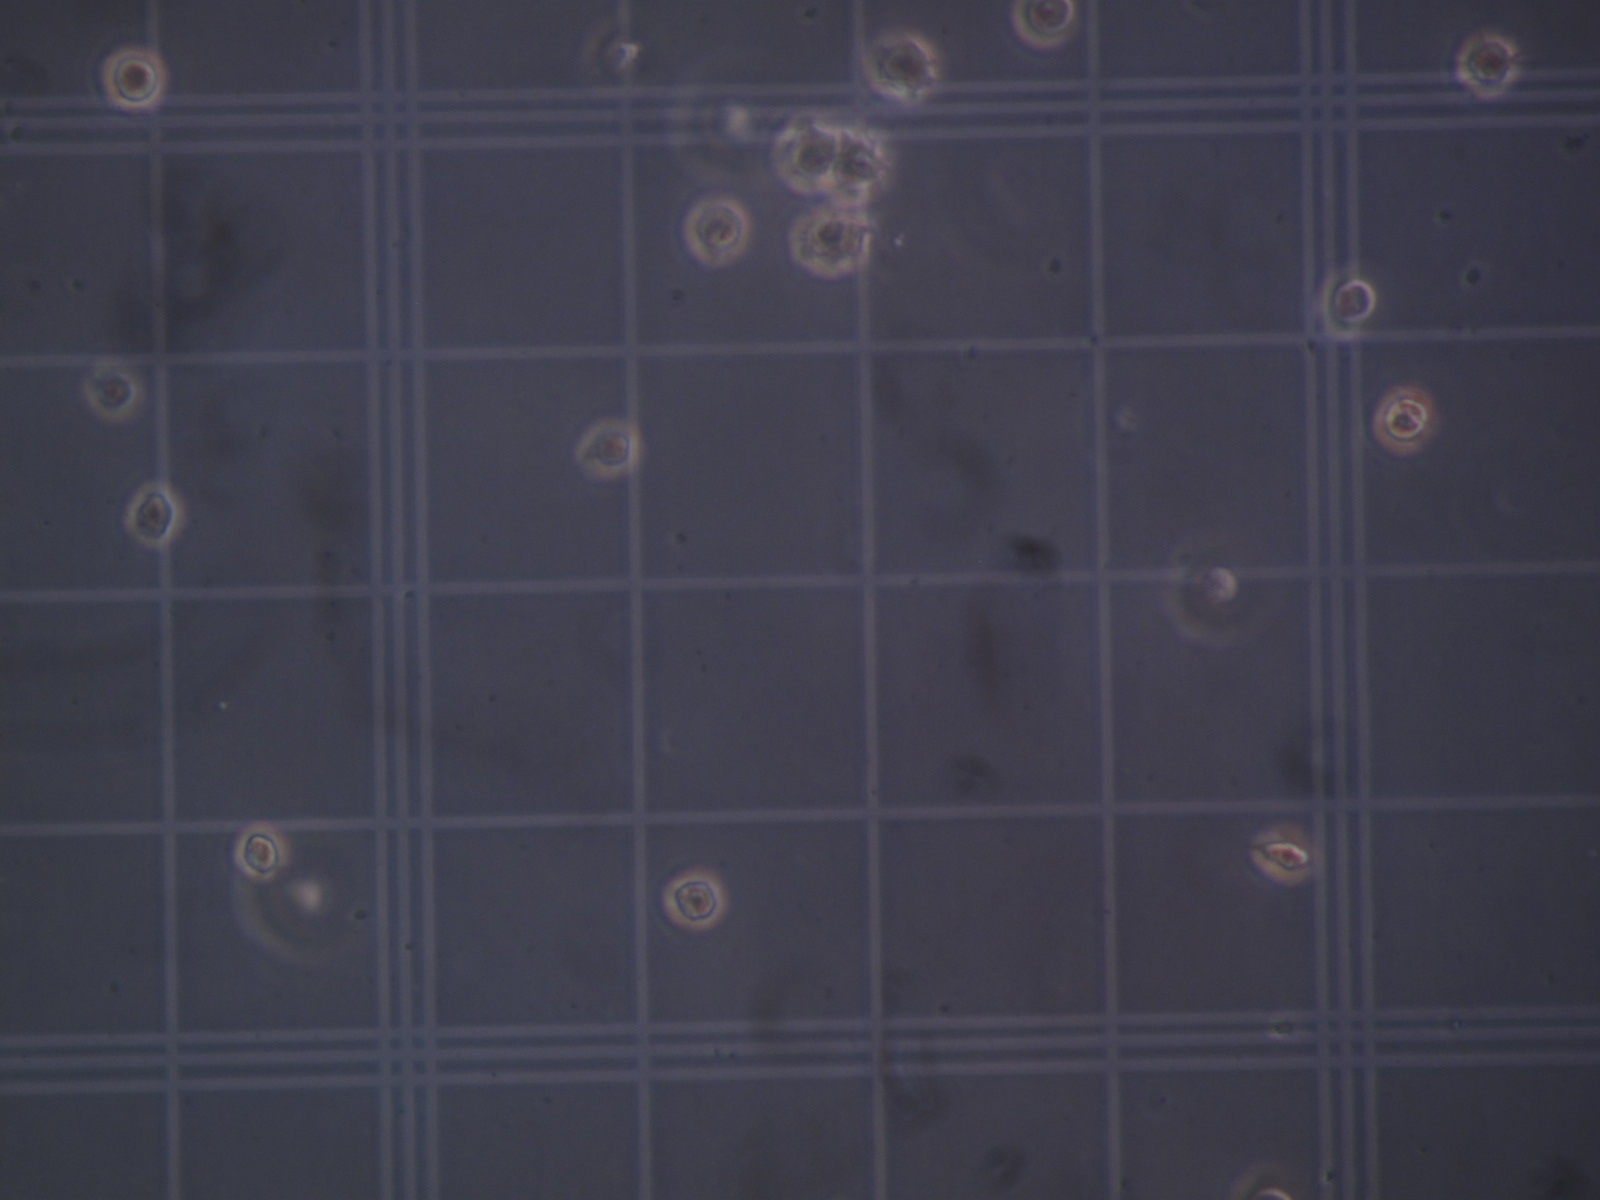hemo: (231, 842, 349, 967), (669, 63, 751, 178), (1162, 534, 1242, 647), (787, 211, 872, 279), (772, 117, 840, 194), (863, 32, 936, 101), (683, 197, 750, 267), (1372, 386, 1436, 455), (101, 47, 168, 111), (1318, 268, 1377, 338), (1456, 33, 1517, 98), (1249, 826, 1315, 884), (576, 417, 639, 476), (663, 871, 724, 929), (125, 483, 180, 547), (831, 144, 888, 202), (234, 822, 289, 882), (83, 363, 139, 421), (1010, 1, 1077, 49), (1226, 1168, 1299, 1200)
